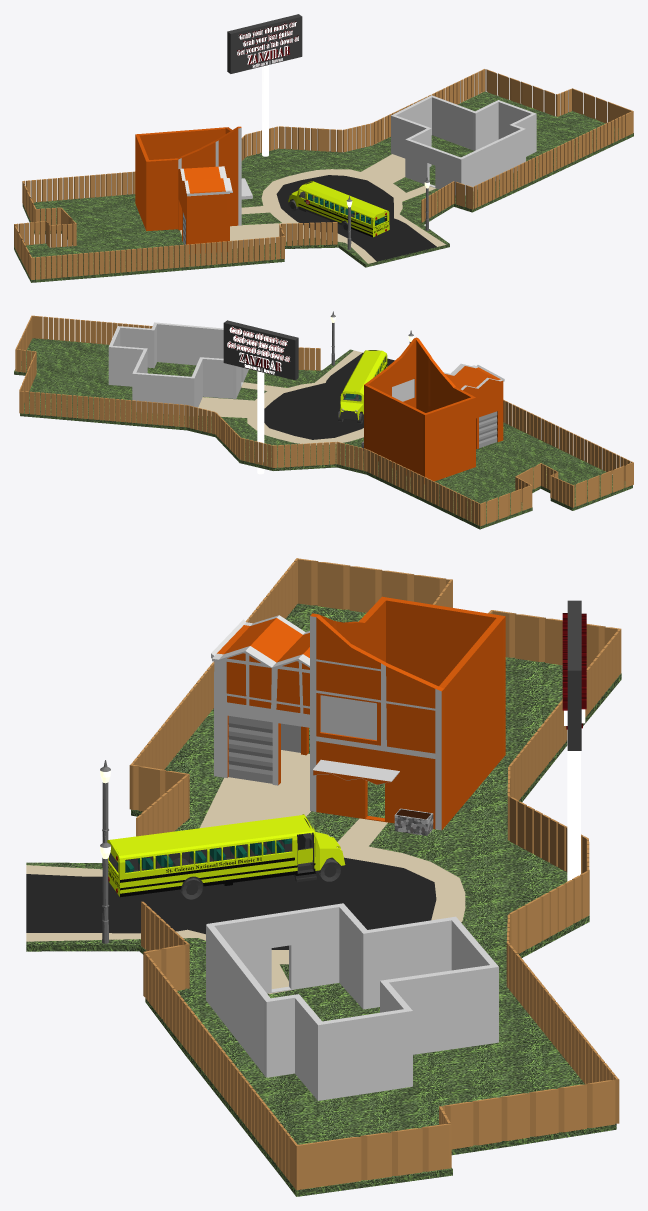
The model's file is Nukehouses.glb.
3 views of the same model, one above another, from view 1: azimuth 30°, elevation 25°; view 2: azimuth 150°, elevation 25°; view 3: azimuth 270°, elevation 25° (orthographic). The views are drawn at different scales.
Parts seen in each view (by area): view 1: Ground, Fences, House 2, House 1, Bus, Billyboard, Text, Support; view 2: Ground, Fences, House 2, House 1, Billyboard, Bus, Text, Support, Garage Door.001, Window; view 3: Ground, Fences, House 2, House 1, Bus, Garage Door, Billyboard, Window, Support, Streetlight.001, Text, Canopy (+1 smaller).
Boxes of the visible parts, x1=… form: Ground: x1=14, y1=91, x2=633, y2=282; Fences: x1=14, y1=69, x2=633, y2=279; House 2: x1=135, y1=126, x2=241, y2=253; House 1: x1=391, y1=95, x2=536, y2=195; Bus: x1=288, y1=181, x2=389, y2=237; Billyboard: x1=227, y1=14, x2=302, y2=73; Text: x1=237, y1=21, x2=298, y2=67; Support: x1=262, y1=65, x2=268, y2=156; Ground: x1=14, y1=338, x2=632, y2=529; Fences: x1=15, y1=315, x2=633, y2=526; House 2: x1=364, y1=337, x2=504, y2=484; House 1: x1=108, y1=322, x2=248, y2=415; Billyboard: x1=223, y1=320, x2=298, y2=380; Bus: x1=338, y1=350, x2=387, y2=423; Text: x1=227, y1=326, x2=290, y2=374; Support: x1=257, y1=371, x2=264, y2=474; Garage Door.001: x1=479, y1=411, x2=497, y2=448; Window: x1=392, y1=379, x2=414, y2=401; Ground: x1=26, y1=603, x2=621, y2=1196; Fences: x1=129, y1=558, x2=621, y2=1190; House 2: x1=211, y1=596, x2=505, y2=830; House 1: x1=206, y1=903, x2=498, y2=1100; Bus: x1=107, y1=814, x2=345, y2=899; Garage Door: x1=228, y1=716, x2=272, y2=783; Billyboard: x1=567, y1=600, x2=581, y2=750; Window: x1=320, y1=695, x2=376, y2=740; Support: x1=567, y1=730, x2=580, y2=881; Streetlight.001: x1=100, y1=760, x2=110, y2=943; Text: x1=562, y1=613, x2=586, y2=729; Canopy: x1=313, y1=759, x2=399, y2=784.
Size of what is drawn, in the model's own units: 60.92 by 13.79 by 26.05.
25 materials, 2 textured.
